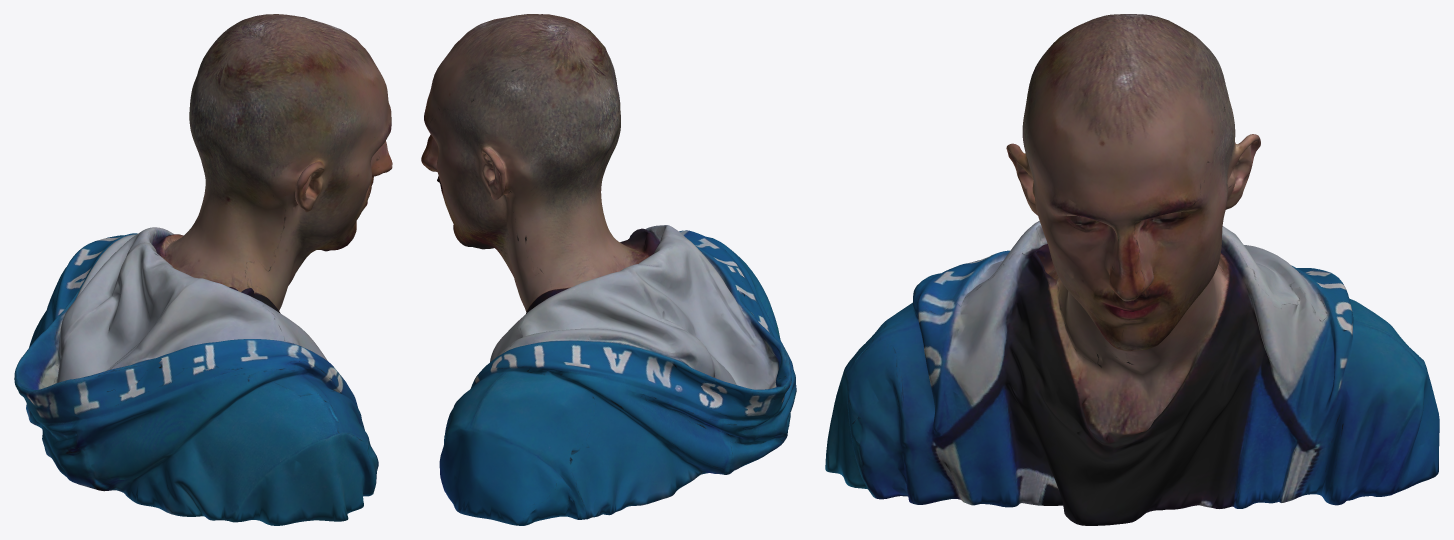
File: scan_exstar_daniele_simple.obj
The picture shows the model from 3 angles, left to right: view 1: azimuth 30°, elevation 25°; view 2: azimuth 150°, elevation 25°; view 3: azimuth 270°, elevation 25°; orthographic projection. The views are drawn at different scales.
Parts seen in each view (by area): view 1: scan_exstar_daniele-dugo_filled-holes_adjusted.002; view 2: scan_exstar_daniele-dugo_filled-holes_adjusted.002; view 3: scan_exstar_daniele-dugo_filled-holes_adjusted.002.
Boxes of the visible parts, left/top/right/bottom form: scan_exstar_daniele-dugo_filled-holes_adjusted.002: left=14, top=14, right=392, bottom=525; scan_exstar_daniele-dugo_filled-holes_adjusted.002: left=421, top=14, right=796, bottom=525; scan_exstar_daniele-dugo_filled-holes_adjusted.002: left=825, top=14, right=1439, bottom=525.
Bounding box in the file's own units: 45.24 × 46.24 × 53.49.
